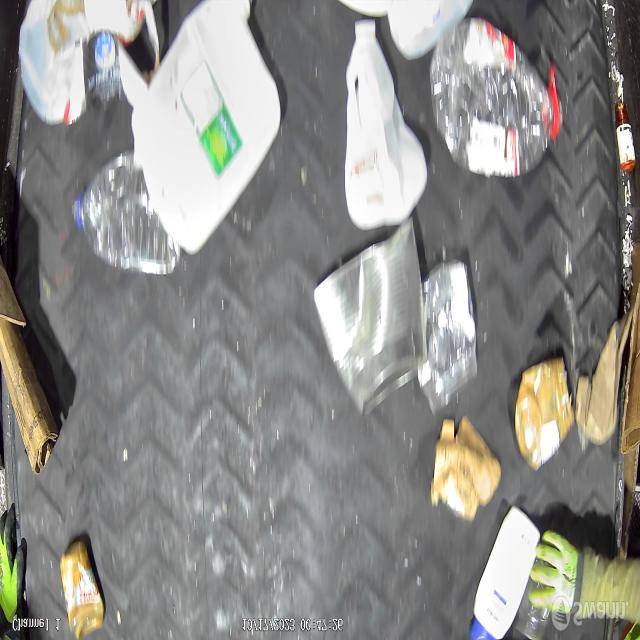can: (313, 216, 429, 414)
milk_jug: (133, 2, 285, 255), (343, 19, 426, 231)
plastic_bottle: (433, 21, 561, 180), (75, 150, 180, 276)
